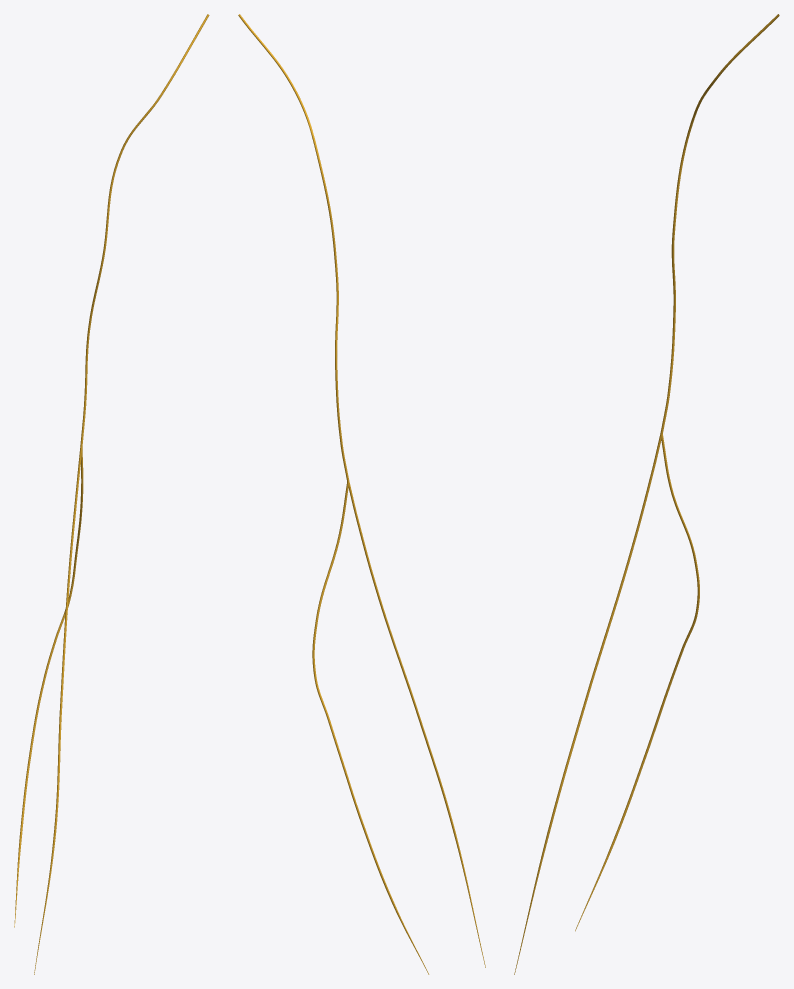
The model's file is nervoso-medial-antebrachial-cutaneous-nerve-r.glb.
3 renders of one model, left to right at view 1: azimuth 30°, elevation 25°; view 2: azimuth 150°, elevation 25°; view 3: azimuth 330°, elevation 25°, orthographic. The views are drawn at different scales.
Visible parts, largest first — view 1: Anterior branch of medial antebrachial cutaneous nerve.r, Medial antebrachial cutaneous nerve.r, Posterior branch of medial antebrachial cutaneous nerve.r; view 2: Medial antebrachial cutaneous nerve.r, Posterior branch of medial antebrachial cutaneous nerve.r, Anterior branch of medial antebrachial cutaneous nerve.r; view 3: Anterior branch of medial antebrachial cutaneous nerve.r, Posterior branch of medial antebrachial cutaneous nerve.r, Medial antebrachial cutaneous nerve.r.
Boxes of the visible parts, x1=… form: Anterior branch of medial antebrachial cutaneous nerve.r: x1=34, y1=446, x2=82, y2=974; Medial antebrachial cutaneous nerve.r: x1=80, y1=14, x2=209, y2=446; Posterior branch of medial antebrachial cutaneous nerve.r: x1=14, y1=447, x2=83, y2=927; Medial antebrachial cutaneous nerve.r: x1=238, y1=14, x2=349, y2=481; Posterior branch of medial antebrachial cutaneous nerve.r: x1=312, y1=482, x2=429, y2=974; Anterior branch of medial antebrachial cutaneous nerve.r: x1=348, y1=482, x2=485, y2=967; Anterior branch of medial antebrachial cutaneous nerve.r: x1=514, y1=434, x2=661, y2=974; Posterior branch of medial antebrachial cutaneous nerve.r: x1=575, y1=434, x2=699, y2=931; Medial antebrachial cutaneous nerve.r: x1=660, y1=14, x2=779, y2=434.
Bounding box in the file's own units: 0.1066 × 0.4381 × 0.0587.
